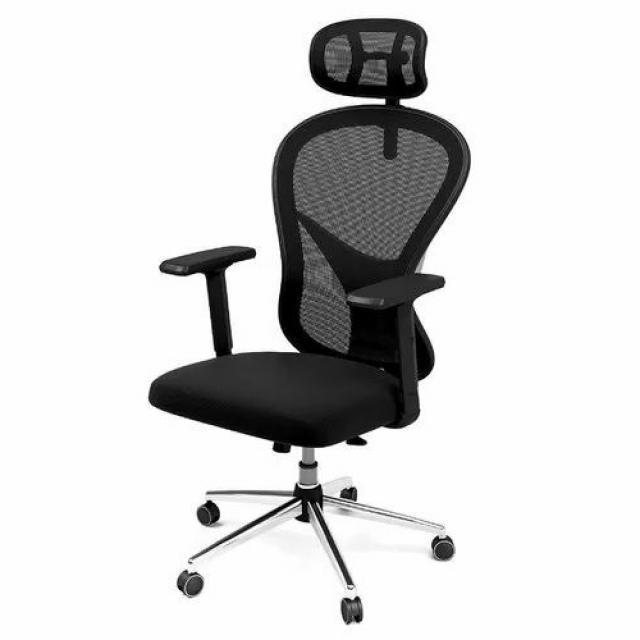chair: (129, 5, 541, 640)
